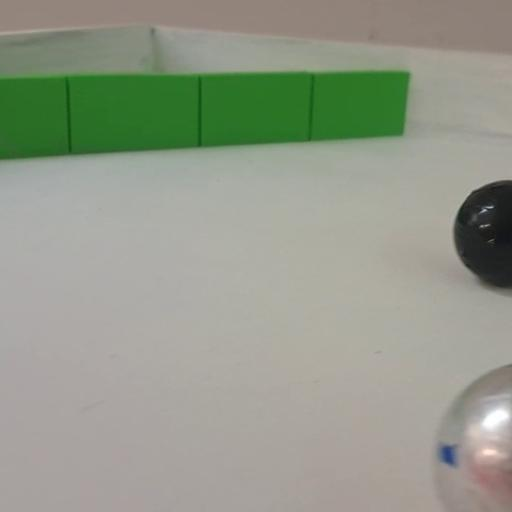alive: (426, 355, 512, 512)
dead: (451, 173, 512, 294)
